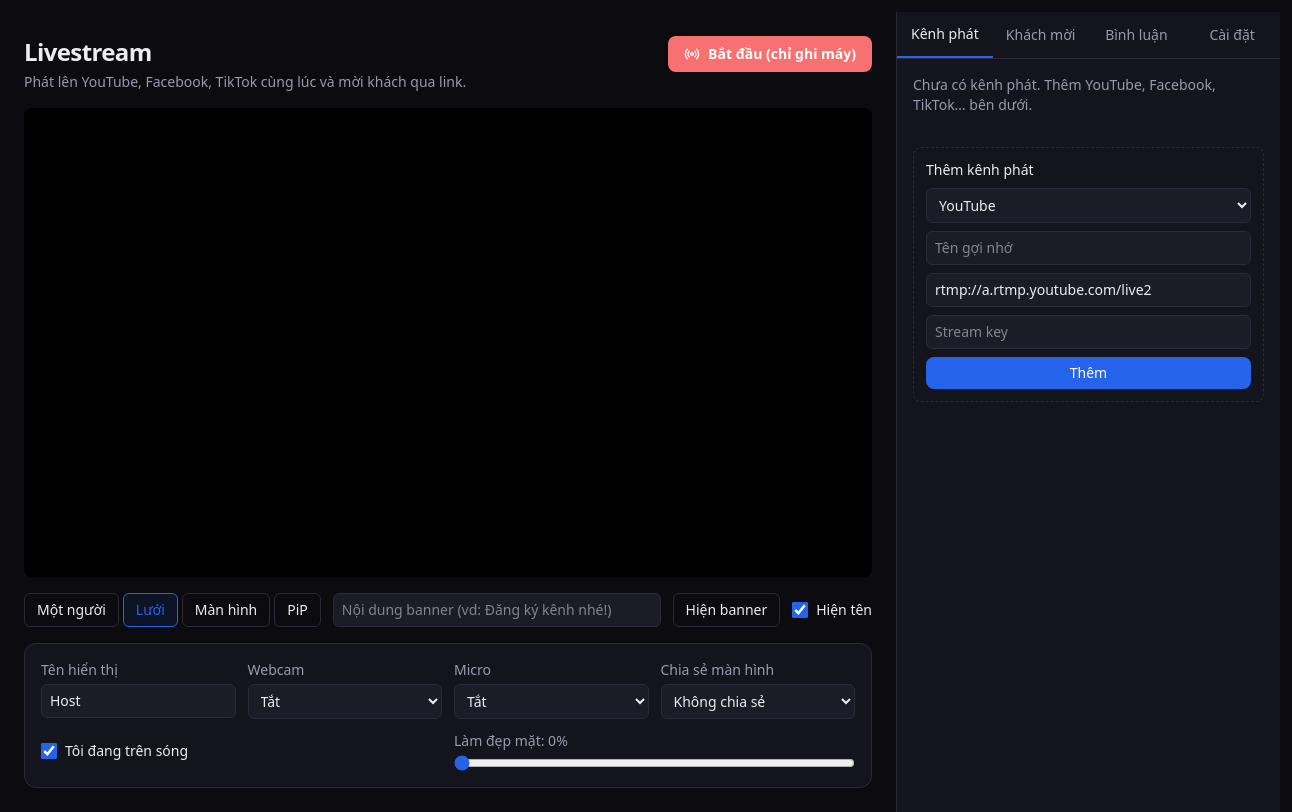
Test case: LivePage › báo lỗi dễ hiểu khi thiếu stream key
Click the button with test id "live-go" at (770, 54), box [668,36,872,72]
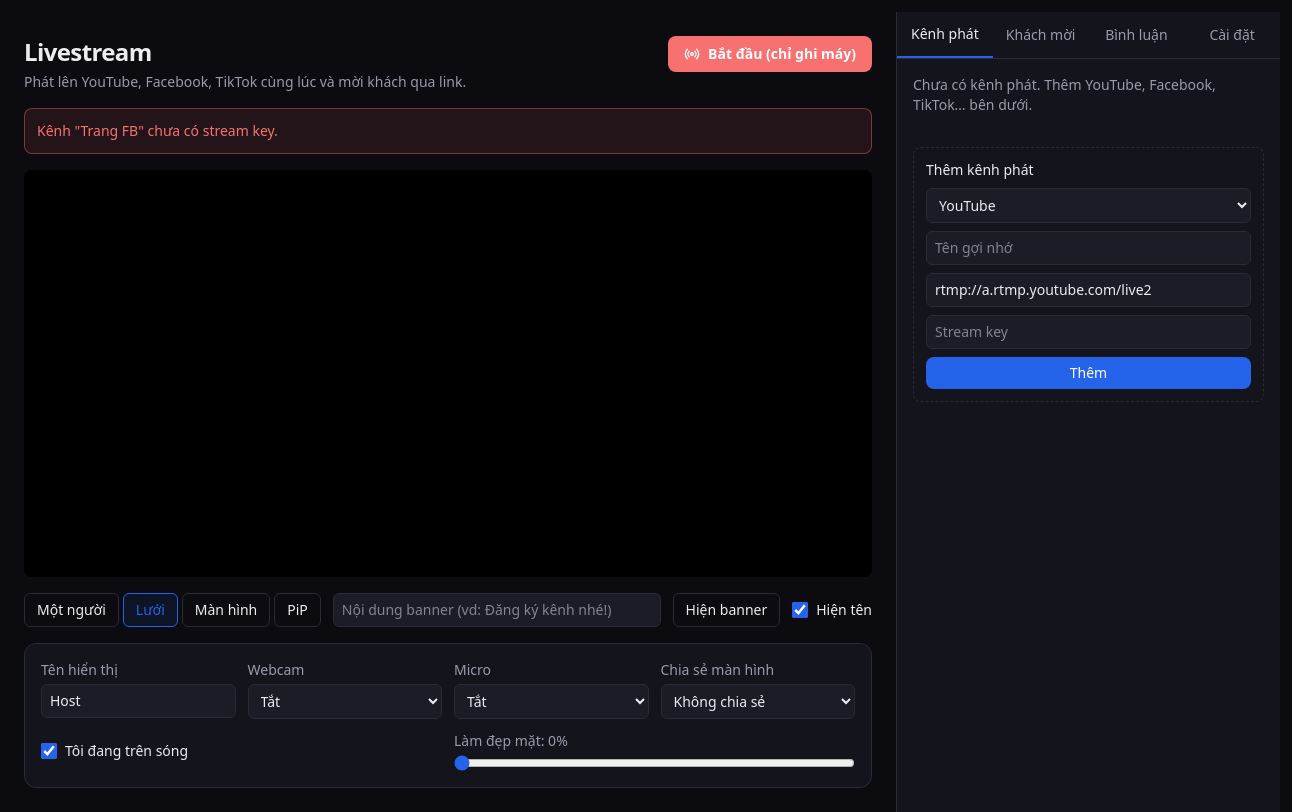
Result: the message reads "Kênh \"Trang FB\" chưa có stream key." at [37,121,278,140]
